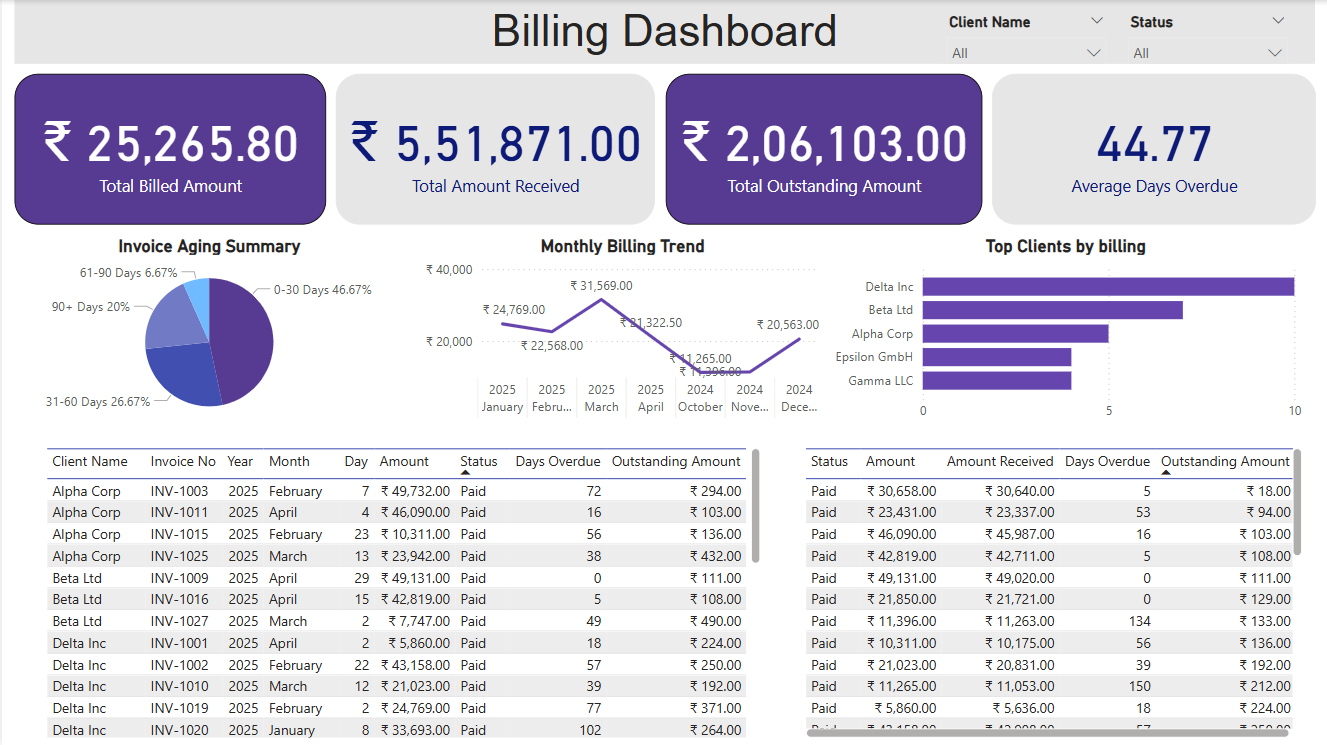

What the dashboard file says about the page in this screenshot:
{"tool":"powerbi","page":{"name":"Page 1","canvas":[1280,720],"ordinal":0},"visuals":[{"type":"card","fields":{"Values":["Sheet1.Amount"]},"box":[12.1,71.2,300.4,146],"z":0},{"type":"textbox","box":[12.3,0,1255.6,61.7],"z":1000},{"type":"card","fields":{"Values":["Sheet1.Outstanding Amount"]},"box":[640.6,71.2,305.2,146],"z":2000},{"type":"card","fields":{"Values":["Sheet1.Amount Received"]},"box":[322.1,71.2,307.6,146],"z":3000},{"type":"card","fields":{"Values":["Sheet1.Days Overdue"]},"box":[955.5,71.2,312.5,146],"z":4000},{"type":"pieChart","title":"Invoice Aging Summary","fields":{"Y":["Sheet1.Invoice No"],"Category":["Sheet1.Aging Bucket"]},"box":[13.3,226.8,374,188.2],"z":5000},{"type":"lineChart","title":"Monthly Billing Trend","fields":{"Y":["Sheet1.Amount"],"Category":["Sheet1.Invoice Date.Variation.Date Hierarchy.Month","Sheet1.Invoice Date.Variation.Date Hierarchy.Year"]},"box":[404.2,226.8,389.7,188.2],"z":6000},{"type":"tableEx","fields":{"Values":["Sheet1.Client Name","Sheet1.Invoice No","Sheet1.Due Date.Variation.Date Hierarchy.Year","Sheet1.Due Date.Variation.Date Hierarchy.Month","Sheet1.Due Date.Variation.Date Hierarchy.Day","Sheet1.Amount","Sheet1.Status","Sheet1.Days Overdue","Sheet1.Outstanding Amount"]},"box":[37.4,424.7,699.7,295.6],"z":7000},{"type":"clusteredBarChart","title":"Top Clients by billing","fields":{"Category":["Sheet1.Client Name"],"Y":["Sheet1.Amount"]},"box":[793.8,226.8,465.7,188.2],"z":8000},{"type":"slicer","fields":{"Values":["Sheet1.Status"]},"box":[1076.1,7.2,174.9,54.3],"z":9000},{"type":"slicer","fields":{"Values":["Sheet1.Client Name"]},"box":[901.2,7.2,174.9,54.3],"z":10000},{"type":"tableEx","fields":{"Values":["Sheet1.Status","Sheet1.Amount","Sheet1.Amount Received","Sheet1.Days Overdue","Sheet1.Outstanding Amount"]},"box":[769.7,424.7,489.8,295.6],"z":11000}]}

Visuals, with their boxes in screenshot pixels (x1, y1, x2, y2), scaled from the page's 1280x720 canvas onto the 1327x745 screenshot:
card - Sheet1.Amount: l=13, t=74, r=324, b=225
textbox: l=13, t=0, r=1314, b=64
card - Sheet1.Outstanding Amount: l=664, t=74, r=981, b=225
card - Sheet1.Amount Received: l=334, t=74, r=653, b=225
card - Sheet1.Days Overdue: l=991, t=74, r=1315, b=225
"Invoice Aging Summary" pieChart: l=14, t=235, r=402, b=429
"Monthly Billing Trend" lineChart: l=419, t=235, r=823, b=429
tableEx - Sheet1.Client Name x Sheet1.Invoice No: l=39, t=439, r=764, b=744
"Top Clients by billing" clusteredBarChart: l=823, t=235, r=1306, b=429
slicer - Sheet1.Status: l=1116, t=7, r=1297, b=64
slicer - Sheet1.Client Name: l=934, t=7, r=1116, b=64
tableEx - Sheet1.Status x Sheet1.Amount: l=798, t=439, r=1306, b=744
